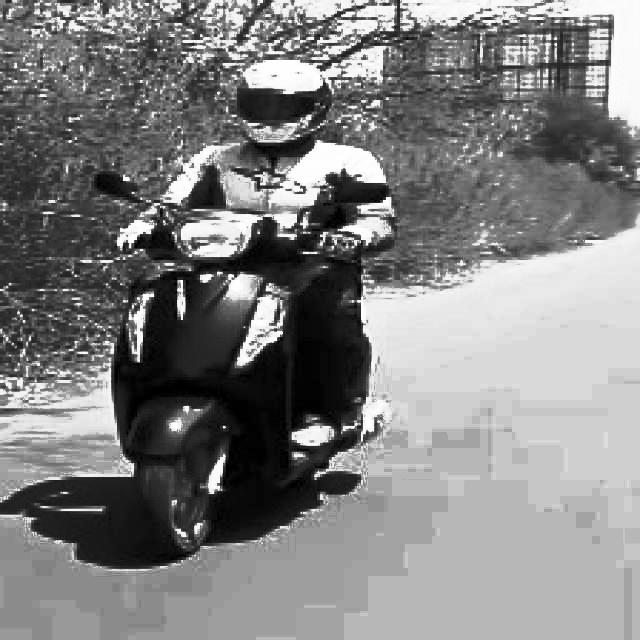Bike: (95, 205, 349, 562)
